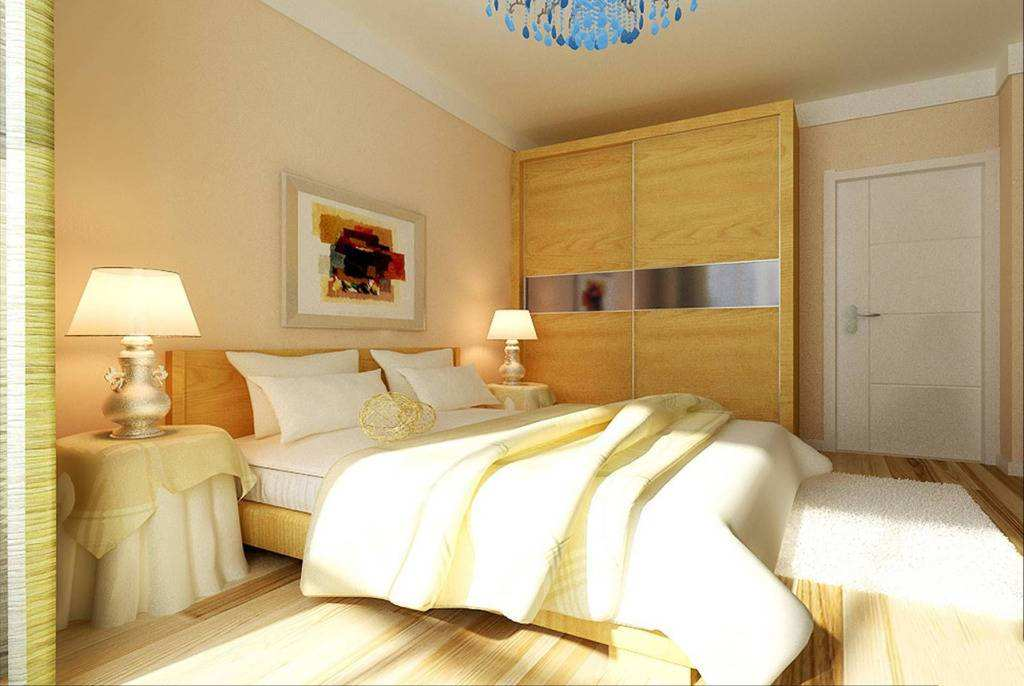床: (232, 392, 792, 661)
枕头: (241, 351, 507, 449)
灯: (67, 265, 199, 438), (488, 2, 700, 57), (489, 305, 544, 388)
